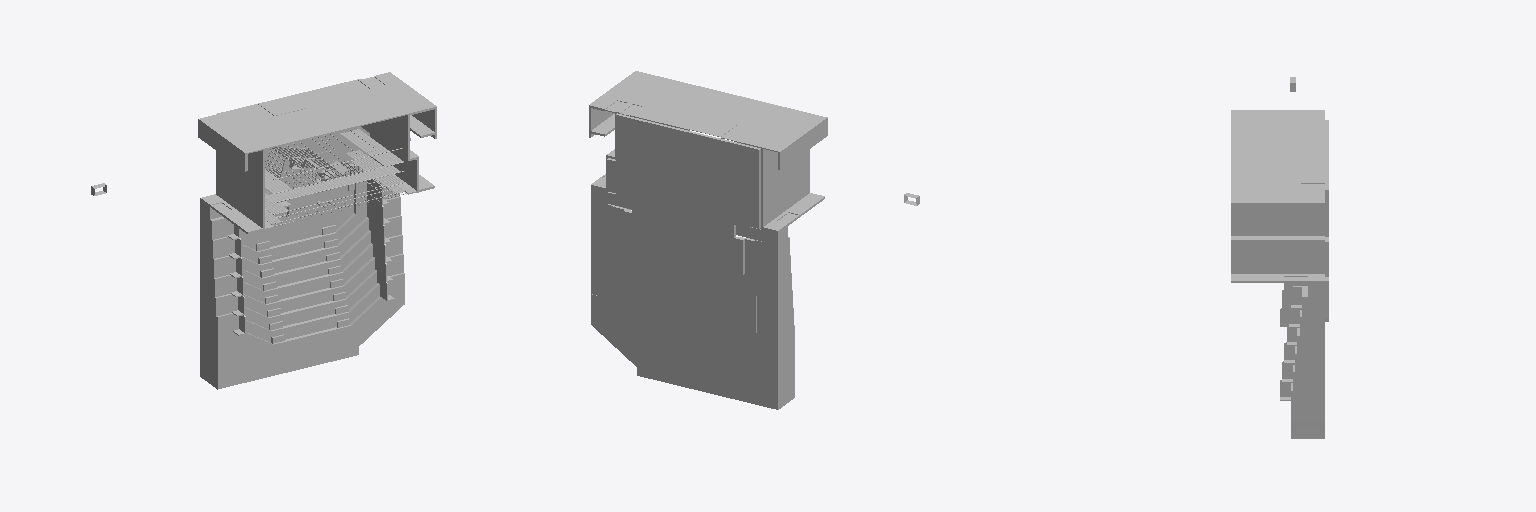
The model's file is Radiant Vermin 3d OBJ Model.obj.
3 views of the same model, side by side, from view 1: azimuth 30°, elevation 25°; view 2: azimuth 150°, elevation 25°; view 3: azimuth 270°, elevation 25° (orthographic).
Parts seen in each view (by area): view 1: Stagehouse, Set; view 2: Stagehouse; view 3: Stagehouse.
Part boxes in pixels (x1,y1,x2,y2): Stagehouse: (198, 72, 436, 389); Set: (91, 126, 376, 235); Stagehouse: (589, 71, 827, 409); Stagehouse: (1231, 110, 1328, 438).
Size of the model in its own units: 30015 by 23702 by 8122.